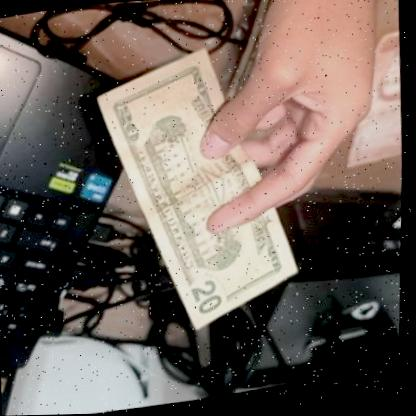twenty-back: (79, 33, 319, 351)
